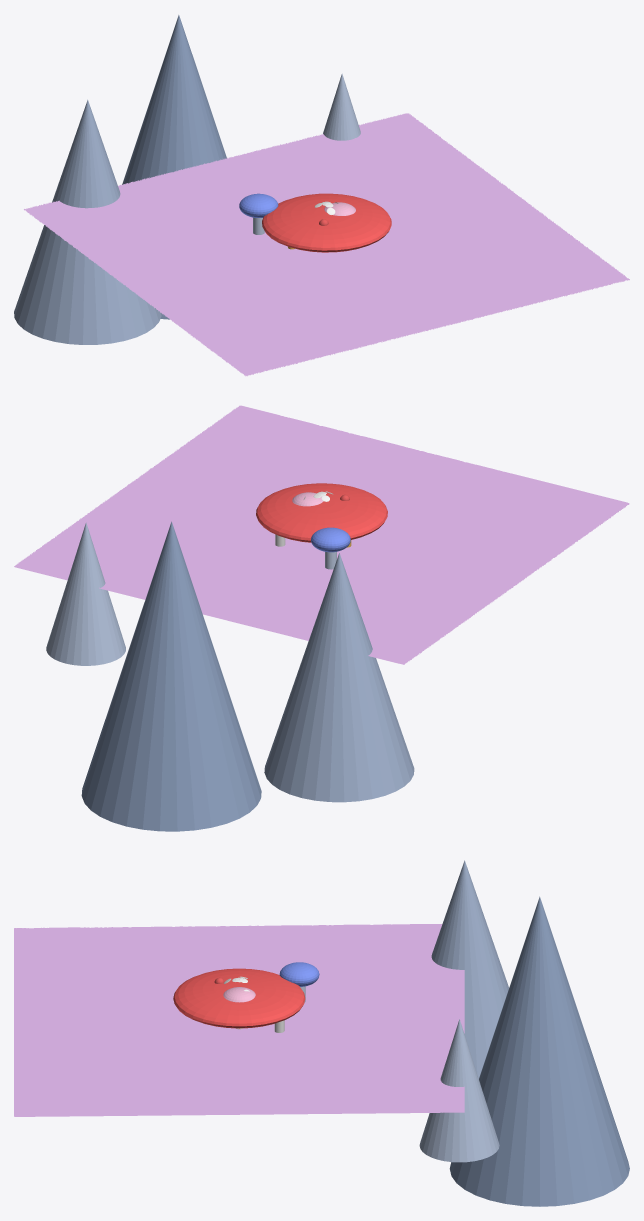
Rendered from large_mushroom1.glb.
3 renders of one model, top to bottom at view 1: azimuth 30°, elevation 25°; view 2: azimuth 150°, elevation 25°; view 3: azimuth 270°, elevation 25°, orthographic.
Parts seen in each view (by area): view 1: ColorfulGround, Mountain1, Mountain2, BouncePadMushroom, Mountain3, Mushroom2Cap; view 2: ColorfulGround, Mountain2, Mountain1, Mountain3, BouncePadMushroom, Mushroom2Cap; view 3: ColorfulGround, Mountain2, Mountain1, BouncePadMushroom, Mountain3, Mushroom2Cap.
Part boxes in pixels (left/top/right/bottom): ColorfulGround: left=24, top=113, right=629, bottom=376; Mountain1: left=14, top=99, right=161, bottom=344; Mountain2: left=122, top=15, right=226, bottom=319; BouncePadMushroom: left=262, top=193, right=391, bottom=252; Mountain3: left=323, top=73, right=360, bottom=140; Mushroom2Cap: left=239, top=193, right=278, bottom=217; ColorfulGround: left=14, top=405, right=629, bottom=664; Mountain2: left=81, top=521, right=261, bottom=831; Mountain1: left=264, top=553, right=414, bottom=802; Mountain3: left=46, top=522, right=125, bottom=665; BouncePadMushroom: left=256, top=483, right=387, bottom=542; Mushroom2Cap: left=311, top=527, right=350, bottom=552; ColorfulGround: left=14, top=924, right=464, bottom=1116; Mountain2: left=449, top=896, right=629, bottom=1206; Mountain1: left=431, top=860, right=508, bottom=1078; BouncePadMushroom: left=173, top=968, right=305, bottom=1028; Mountain3: left=419, top=1019, right=499, bottom=1162; Mushroom2Cap: left=279, top=962, right=319, bottom=986.
Bounding box in the file's own units: 45.06 × 30.04 × 61.58.
